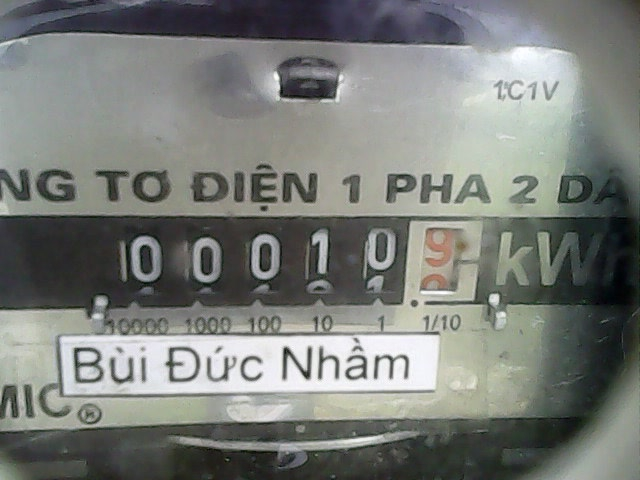phy_plate: (103, 213, 486, 321)
